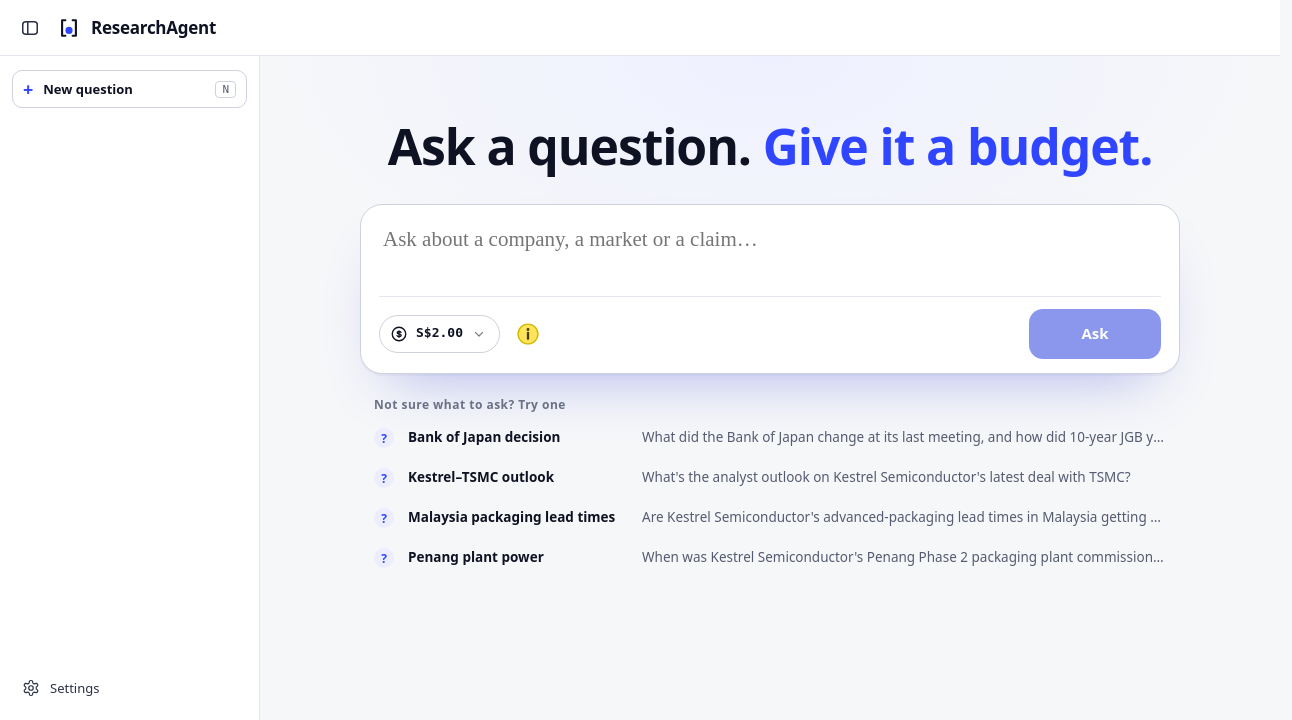
Test case: chat page (owner, 9 Oct) › a chat question opens the chat page: the reply with its no-sources label, no hero, presets or budget, no run
This screenshot has width=1292, height=720.
In the text box named "Your question": (770, 259) 379,223 -> 1161,296, type "What are you?"
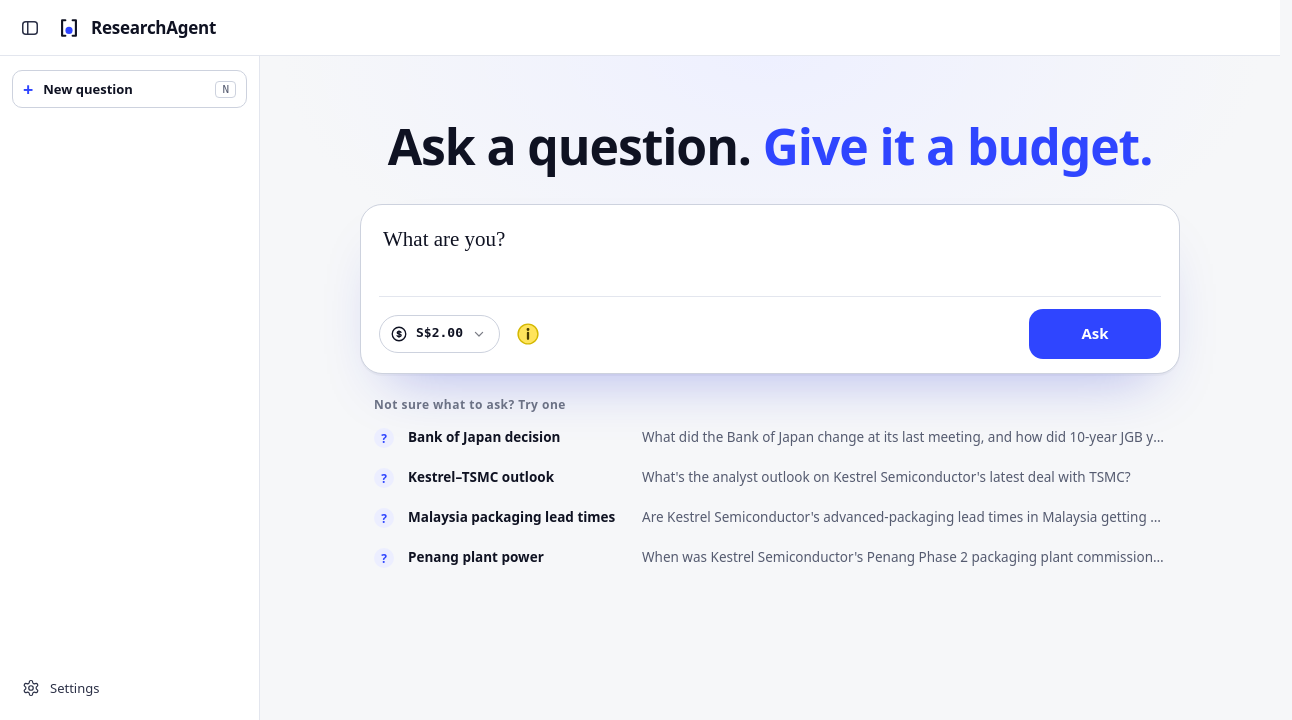
Click the button "Ask": (1095, 334) 1029,309 -> 1161,359
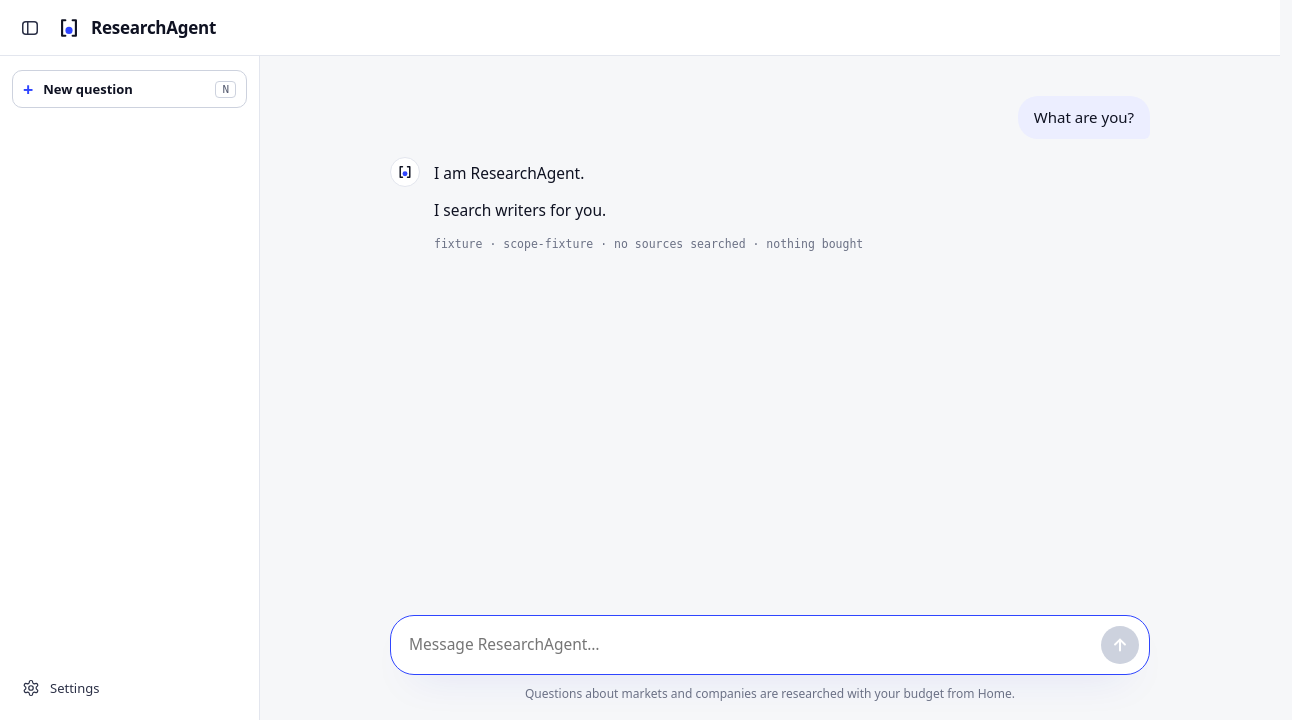
Check: the element named "Conversation" shows "What are you?", box 1034,107 -> 1134,127
Check: the element with test id "ra-chat-reply" shows "I search writers for you.", box 434,199 -> 606,221
Check: the element with test id "ra-chat-reply" shows "fixture · scope-fixture · no sources searched · nothing bought", box 390,156 -> 863,251
